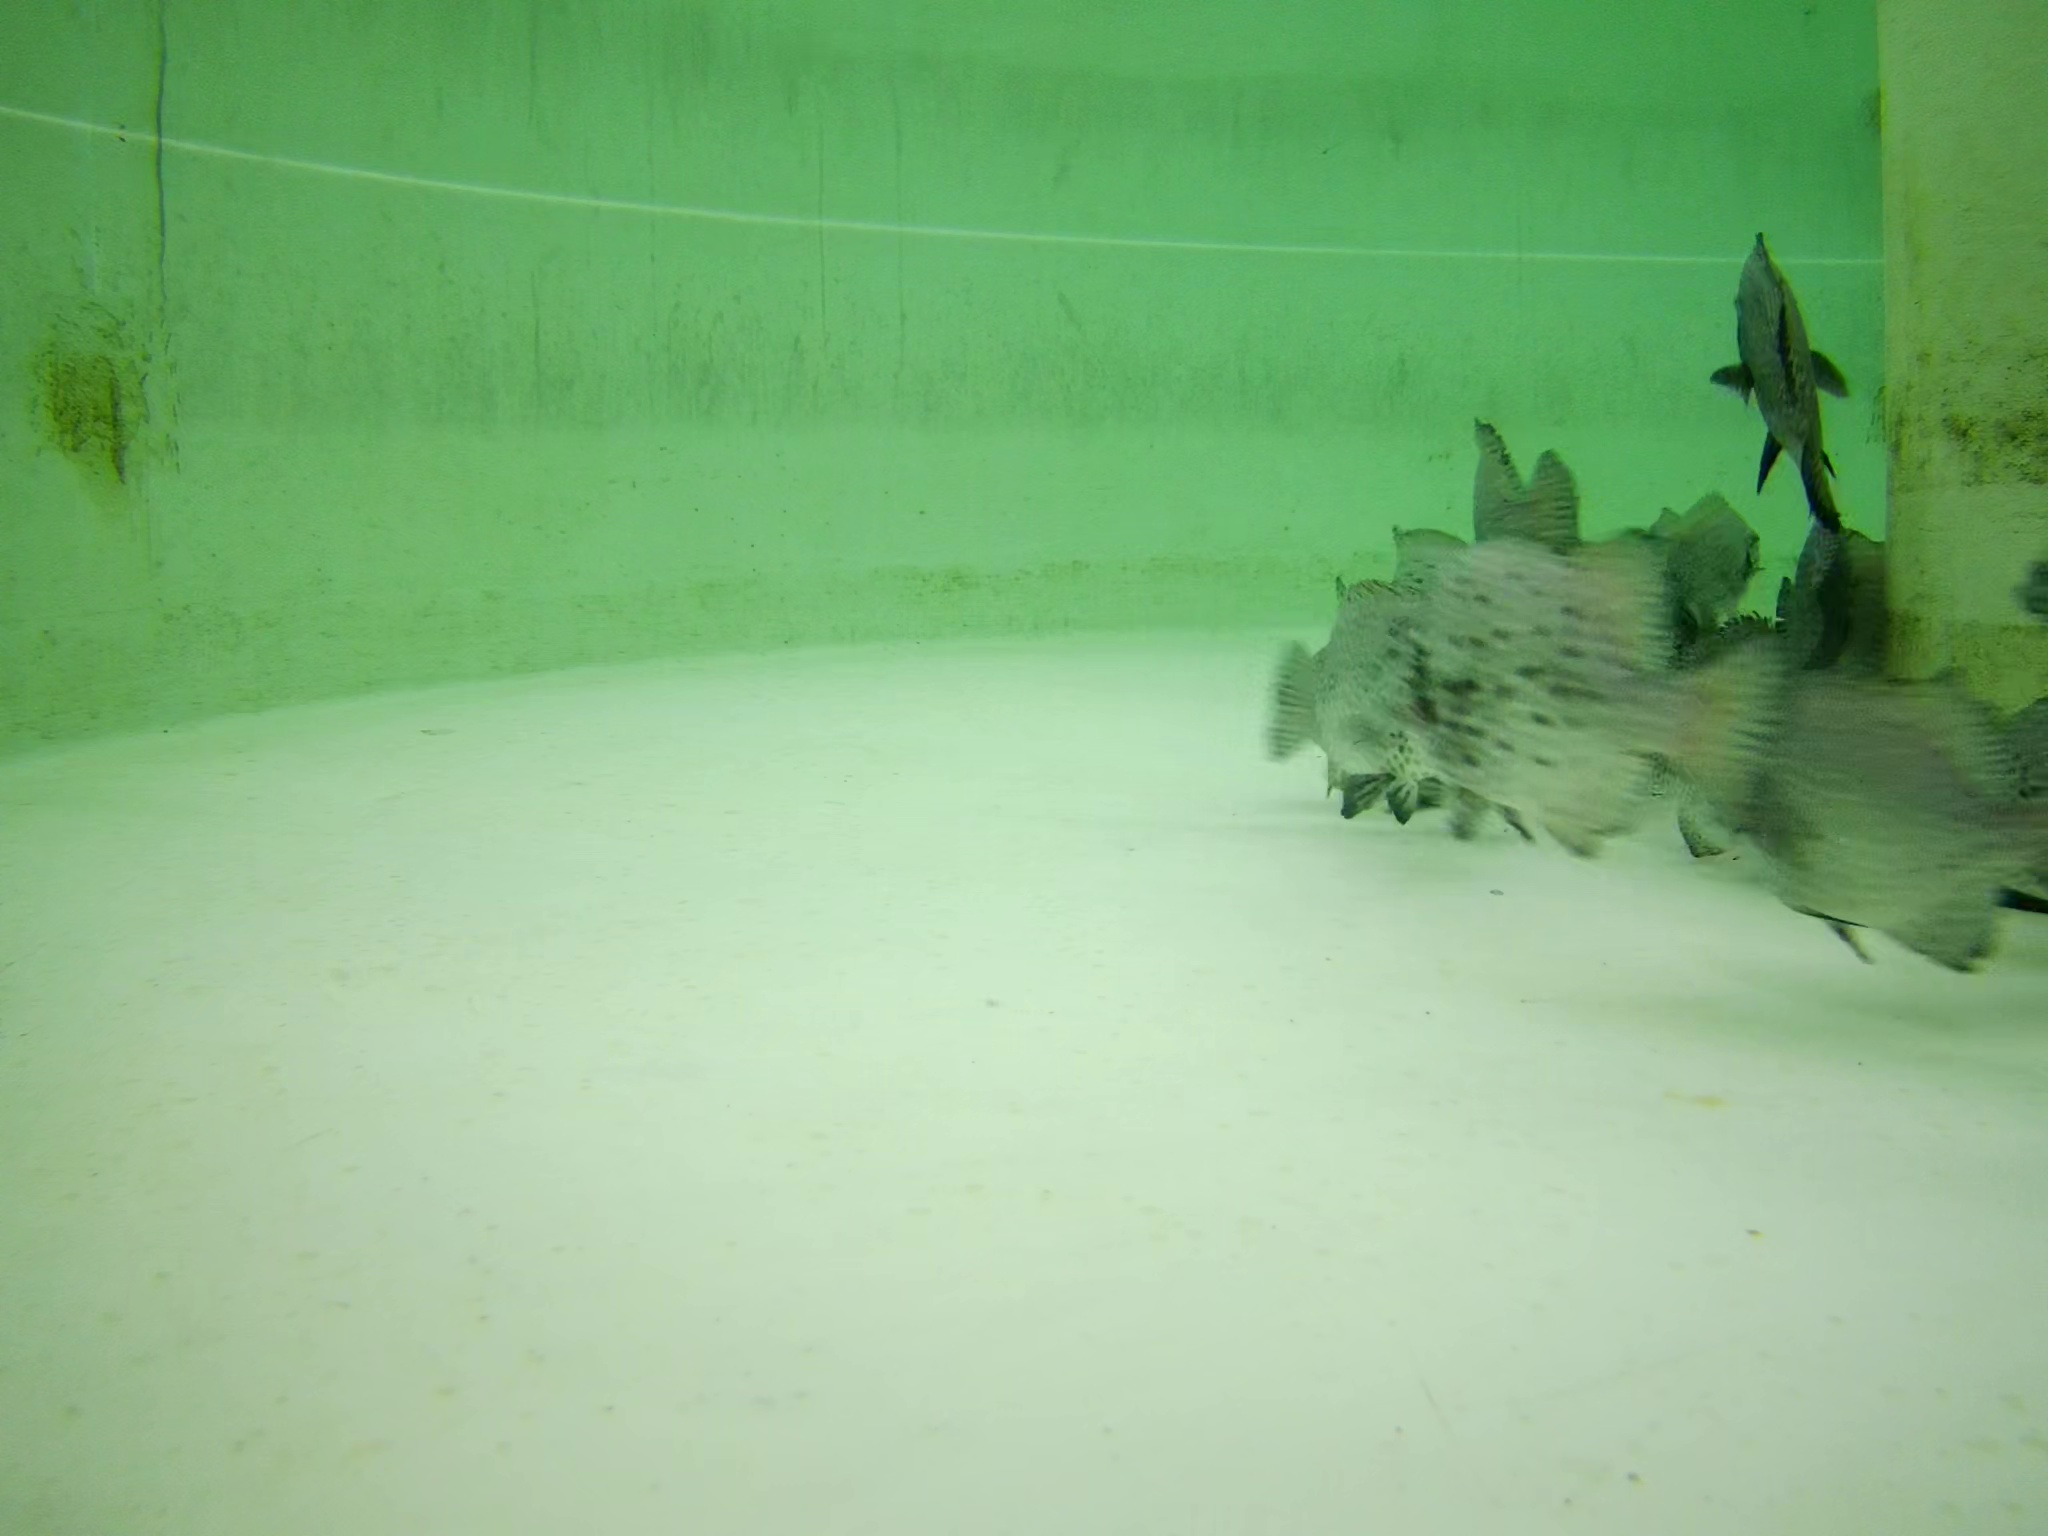fish: (1416, 532, 1774, 868), (1717, 668, 2046, 963), (1251, 587, 1416, 816), (1725, 232, 1853, 510), (1476, 426, 1572, 591), (1645, 499, 1753, 639), (2001, 703, 2048, 952), (1787, 515, 1858, 645)
